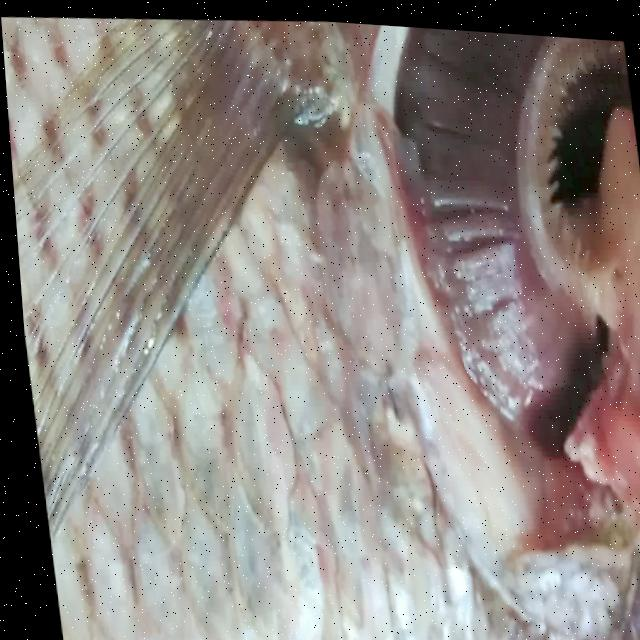Non-Fresh: (366, 32, 640, 439)
